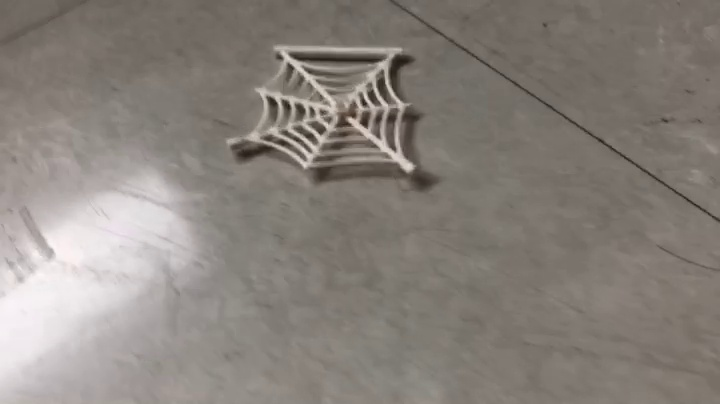web: (223, 41, 437, 194)
